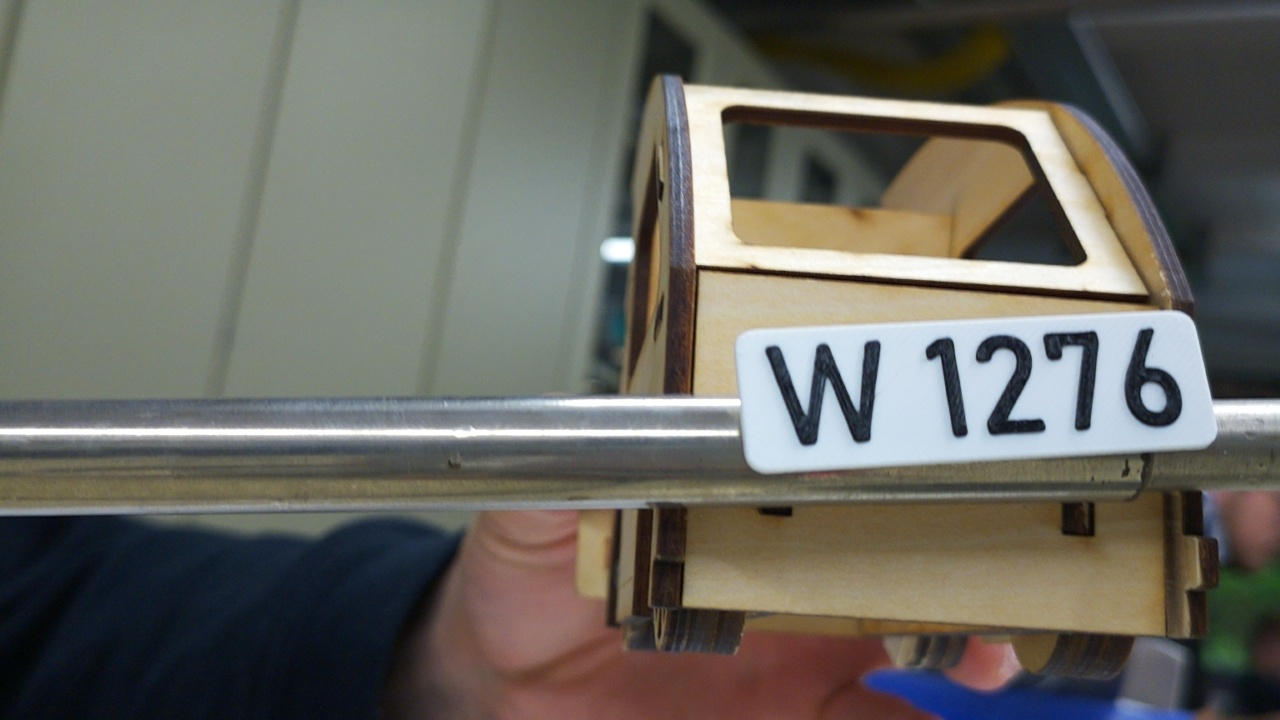license_plate: (731, 308, 1220, 479)
